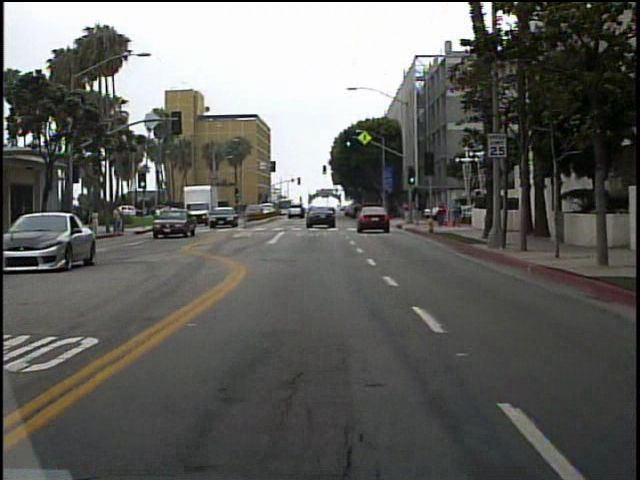person: (113, 203, 125, 237)
